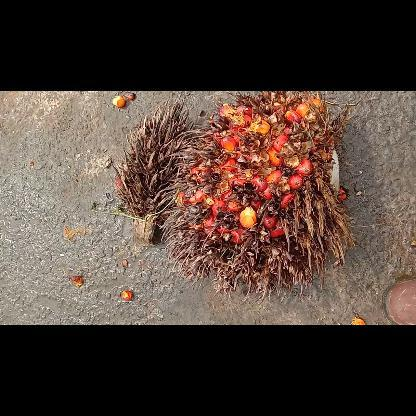Janjang kosong: (110, 101, 197, 246)
Terlalu masak: (159, 90, 357, 302)
